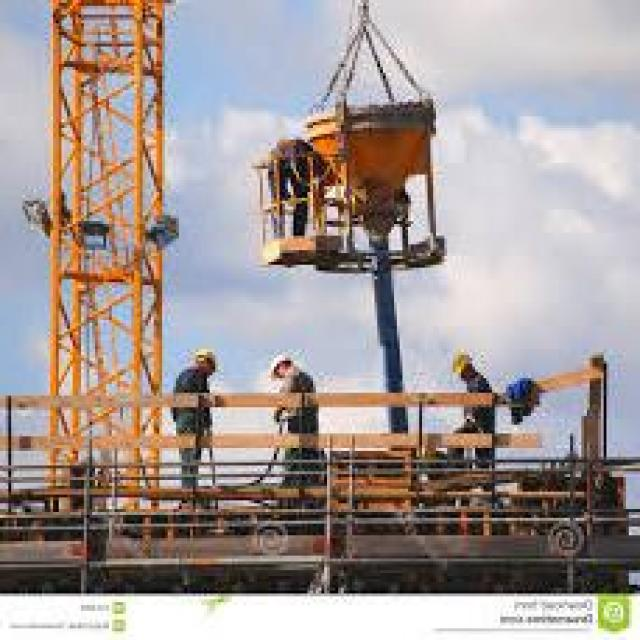Safety-Helmet: (444, 344, 480, 384), (187, 340, 224, 372), (265, 346, 295, 384)
